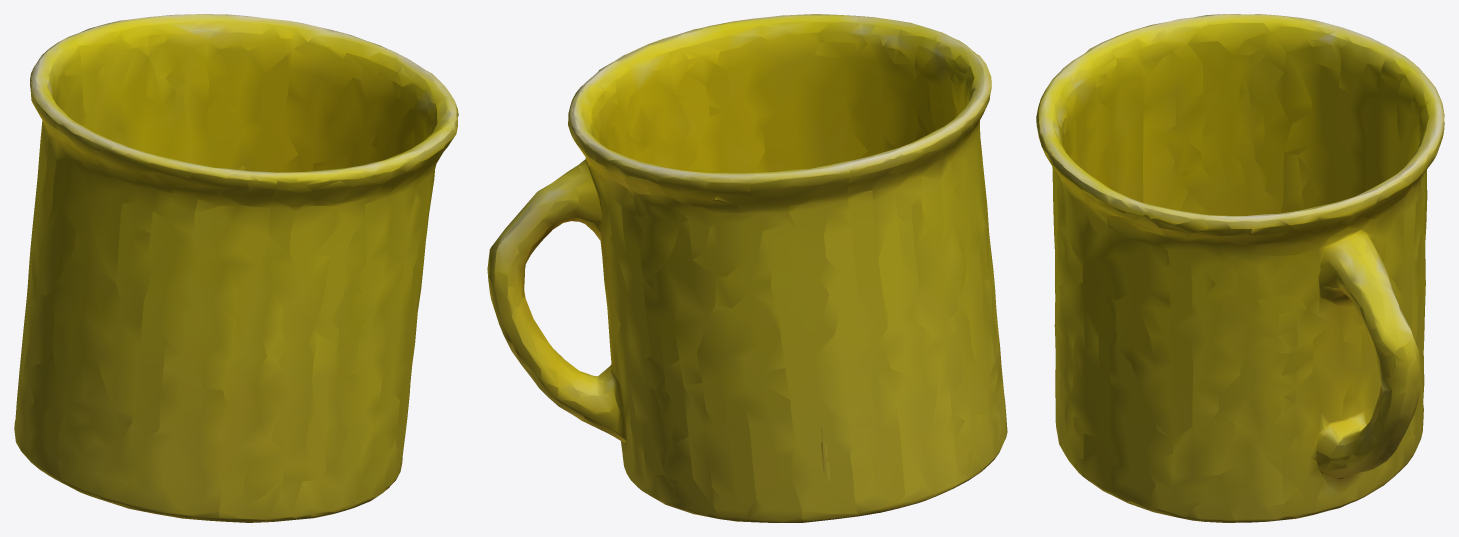
File: 0008_mask_009_yellow_cup.glb
The picture shows the model from 3 angles, left to right: view 1: azimuth 30°, elevation 25°; view 2: azimuth 150°, elevation 25°; view 3: azimuth 270°, elevation 25°; orthographic projection. The views are drawn at different scales.
Parts seen in each view (by area): view 1: mask_009_object; view 2: mask_009_object; view 3: mask_009_object.
Boxes of the visible parts, box(x1,y1,x2,y2) form: mask_009_object: box(14, 14, 458, 522); mask_009_object: box(487, 14, 1007, 522); mask_009_object: box(1036, 14, 1444, 522).
Size of the model in its own units: 0.1627 by 0.1455 by 0.1469.
